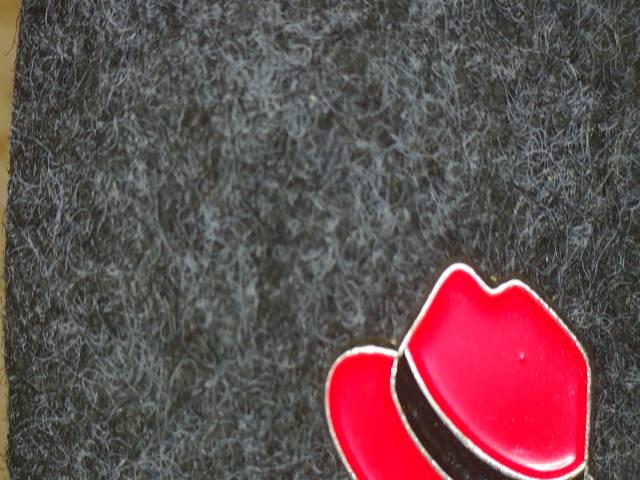Red-Hat: (290, 228, 640, 480)
